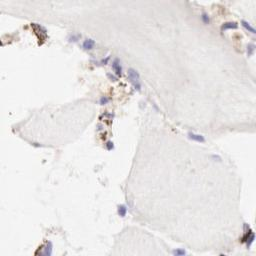nucleus: (63, 29, 82, 43), (127, 66, 141, 83), (240, 19, 256, 33), (188, 130, 204, 143), (82, 38, 96, 50), (112, 57, 122, 73), (247, 40, 256, 56), (116, 205, 127, 217), (107, 72, 118, 84), (220, 22, 238, 29), (210, 153, 222, 163), (248, 233, 255, 250), (36, 23, 47, 33), (201, 11, 210, 23), (98, 95, 109, 104), (175, 248, 186, 256), (90, 58, 100, 66), (45, 241, 52, 252), (107, 141, 114, 151), (130, 84, 141, 90), (102, 55, 109, 64), (96, 124, 104, 130), (105, 113, 114, 117), (154, 104, 158, 112), (217, 253, 226, 256)
positive_cell: (29, 23, 49, 46), (34, 239, 52, 256), (98, 133, 114, 152), (240, 228, 255, 248), (100, 112, 116, 126), (99, 90, 113, 104)
